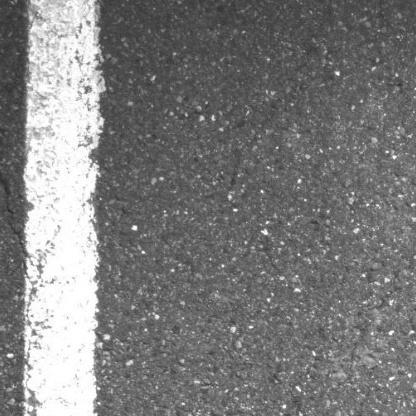Cracks: (0, 107, 33, 262)
